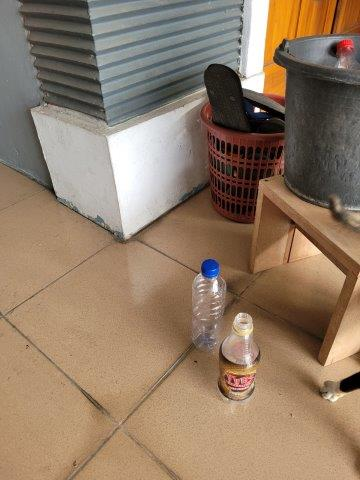botolplastik: (217, 314, 264, 400), (190, 260, 226, 354)
